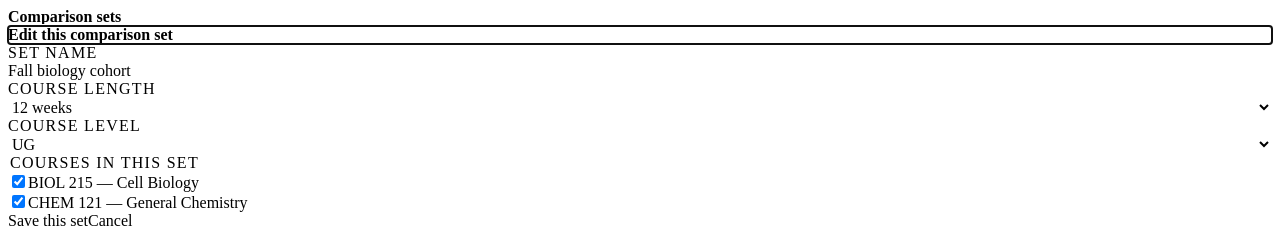
leaving the edit address › puts focus on the list’s heading after a save
Click the button "Save this set" at (48, 221), box [8,212,88,230]
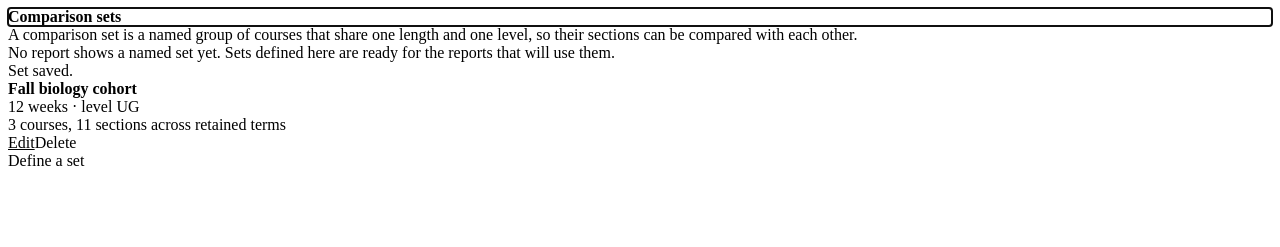
Result: the list with test id "pulse-leadership-set-list" is shown at [8,80,286,152]
